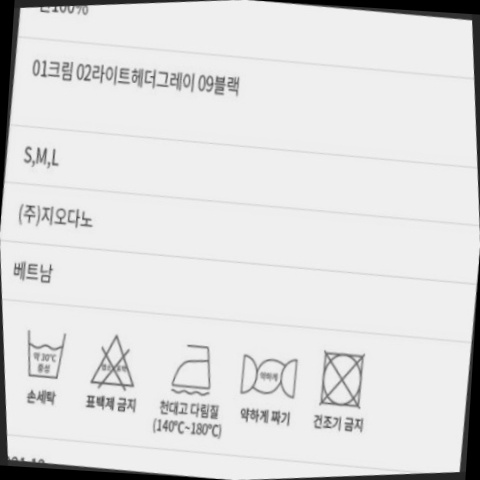30C: (14, 317, 80, 387)
DN_tumble_dry: (305, 338, 380, 418)
iron: (229, 340, 311, 407), (158, 328, 228, 404)
non_chlorine_bleach: (80, 321, 154, 400)
